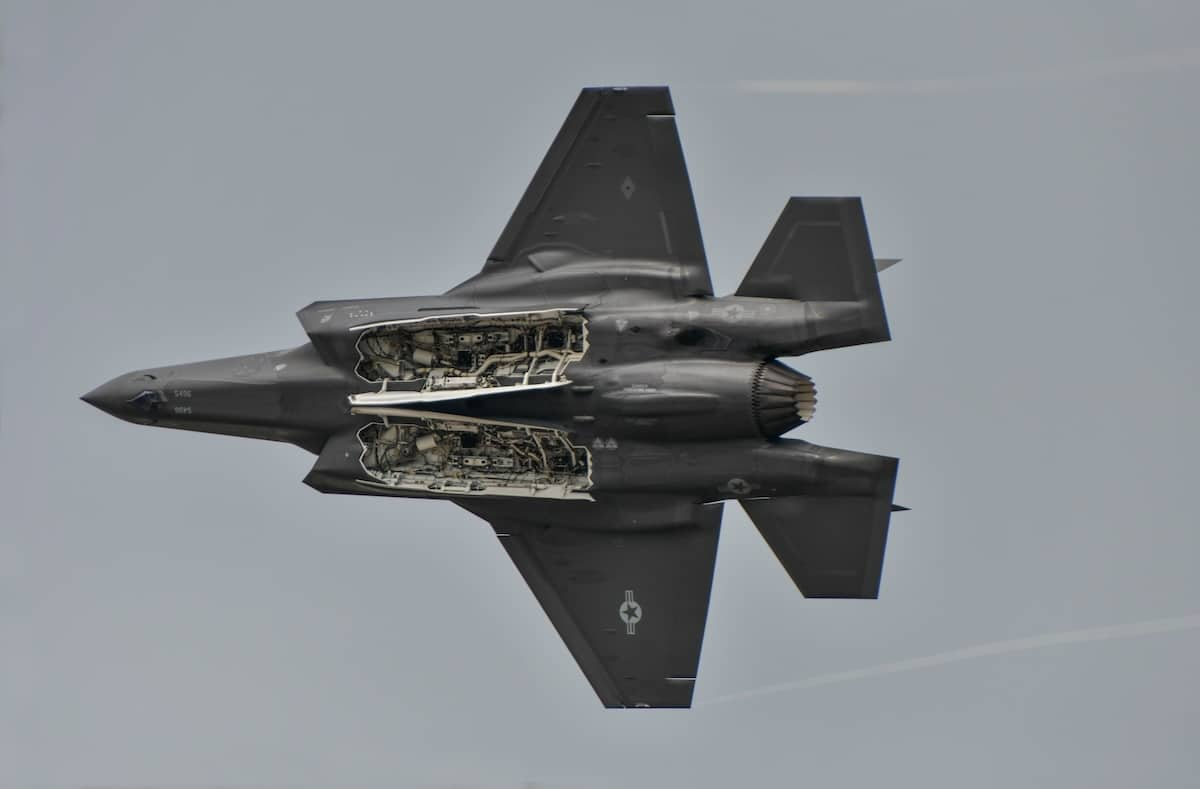F35: (65, 74, 923, 724)
